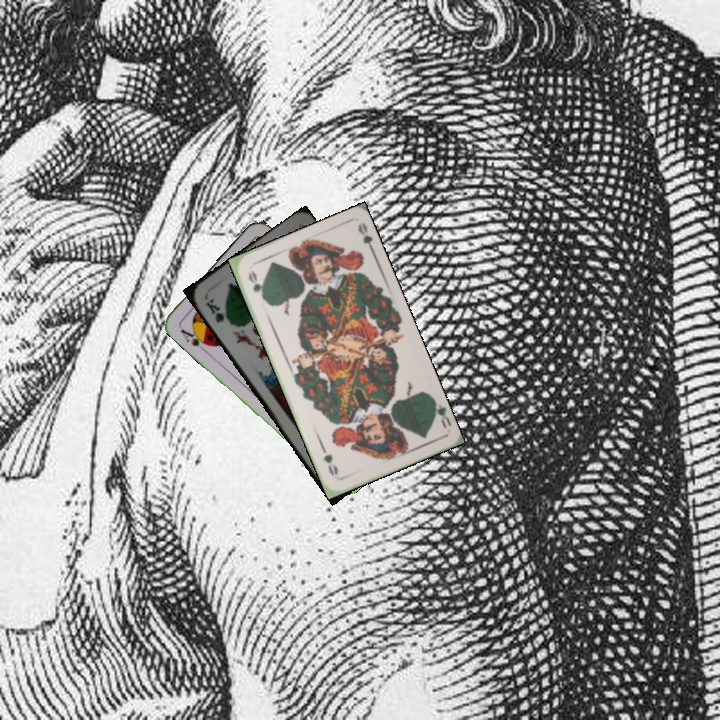GK: (201, 294, 233, 326)
GO: (427, 394, 453, 431), (244, 267, 269, 303)
SA: (176, 324, 212, 349)
